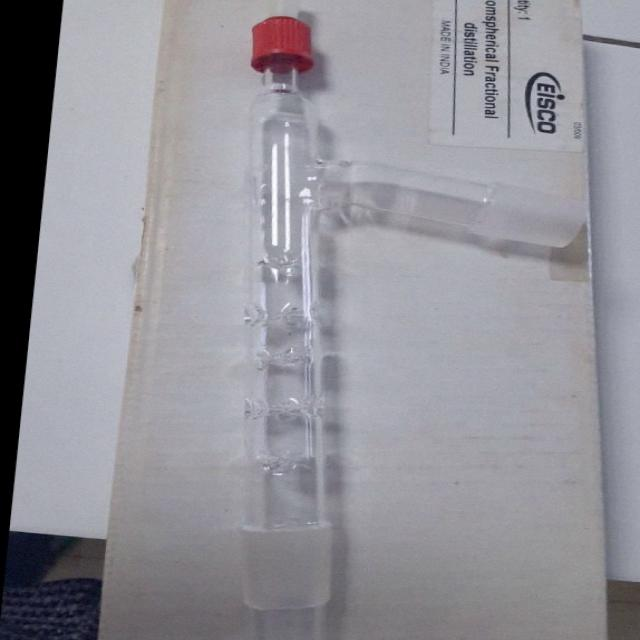Atmospherical Fractional Distillation: (160, 0, 614, 640)
